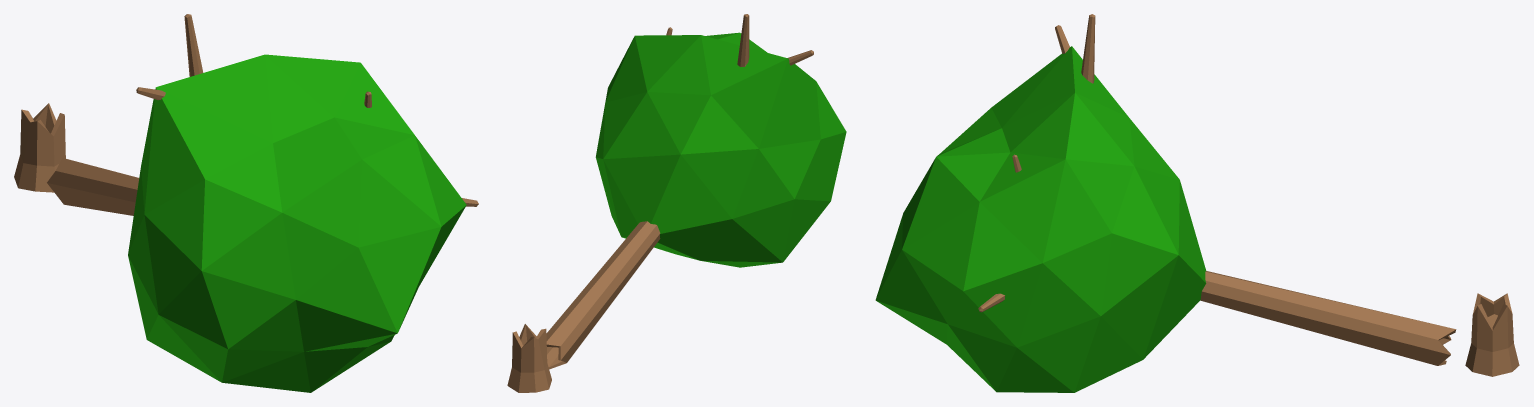
The model's file is Tree_7 Broken.fbx.
The picture shows the model from 3 angles, left to right: view 1: azimuth 30°, elevation 25°; view 2: azimuth 150°, elevation 25°; view 3: azimuth 270°, elevation 25°; orthographic projection. The views are drawn at different scales.
Parts seen in each view (by area): view 1: Tree7Broken_mesh; view 2: Tree7Broken_mesh; view 3: Tree7Broken_mesh.
Part boxes in pixels (<box>): Tree7Broken_mesh: <box>14,14,478,392</box>; Tree7Broken_mesh: <box>507,14,846,392</box>; Tree7Broken_mesh: <box>875,14,1519,392</box>.
Size of the model in its own units: 311 by 351 by 612.
